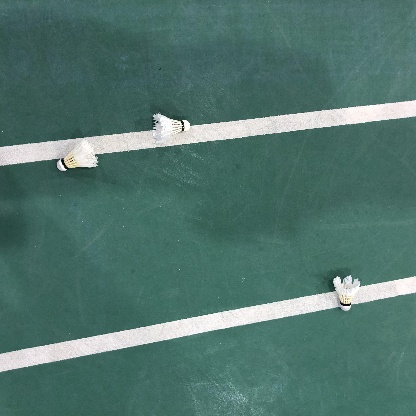ball_single: (57, 139, 99, 171), (153, 113, 190, 143), (332, 275, 360, 311)
